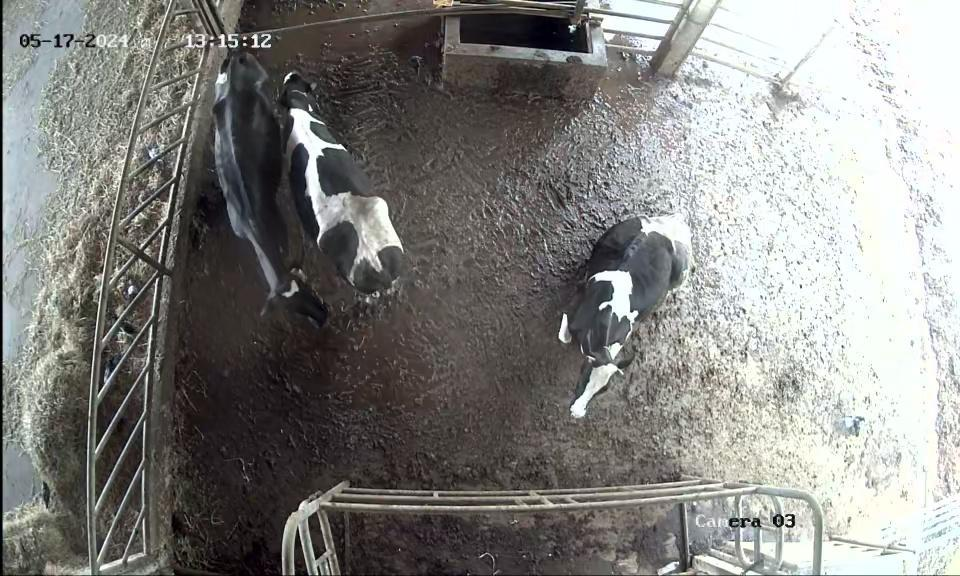lay: (540, 178, 718, 431)
stand: (205, 46, 334, 339), (277, 57, 422, 307)
